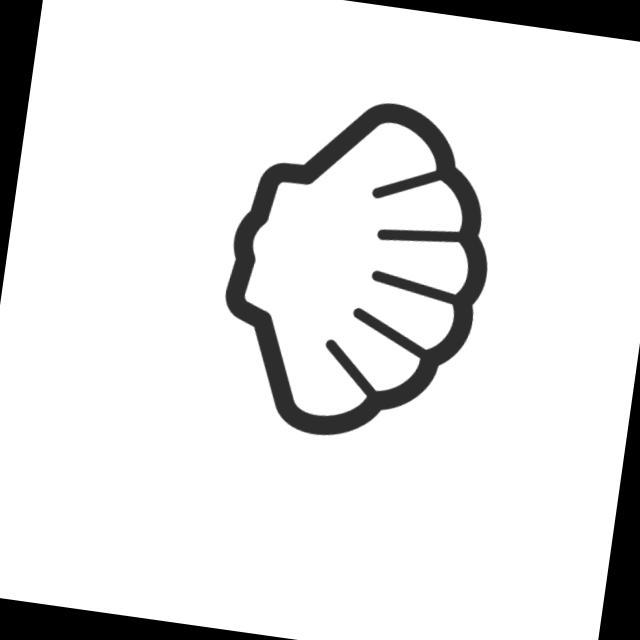shell: (200, 78, 516, 462)
